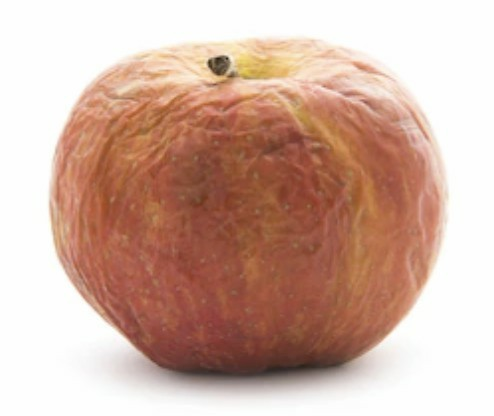rotten_apple: (48, 37, 449, 378)
